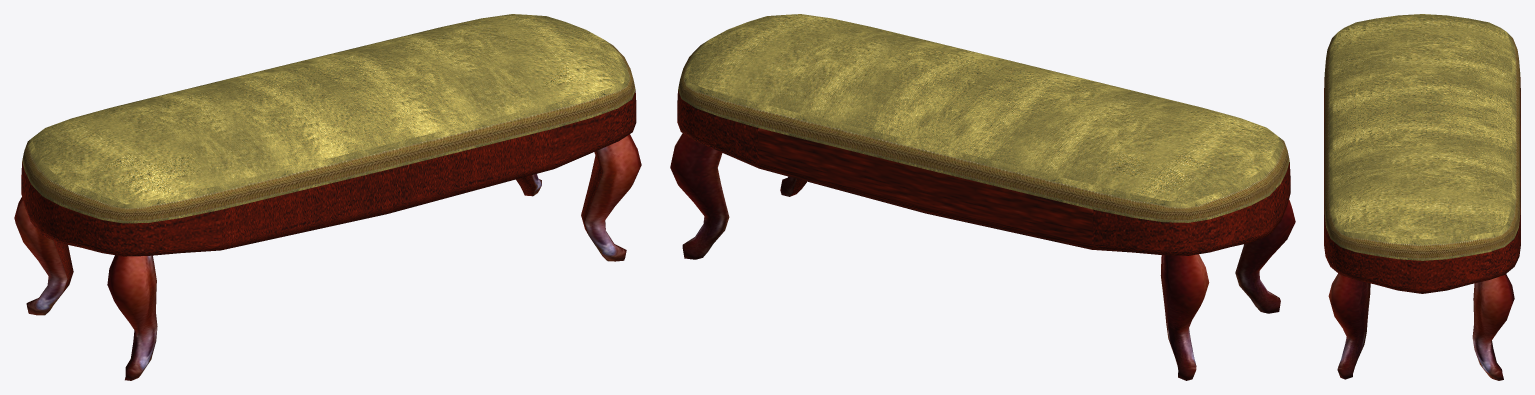
File: BenchforBed.fbx
3 views of the same model, side by side, from view 1: azimuth 30°, elevation 25°; view 2: azimuth 150°, elevation 25°; view 3: azimuth 270°, elevation 25° (orthographic). The views are drawn at different scales.
Visible parts, largest first — view 1: Bench_footofBed; view 2: Bench_footofBed; view 3: Bench_footofBed.
Boxes of the visible parts, box(x1,y1,x2,y2) form: Bench_footofBed: box(14, 14, 641, 380); Bench_footofBed: box(670, 14, 1295, 380); Bench_footofBed: box(1324, 14, 1520, 380).
Size of the model in its own units: 152 by 51.23 by 53.84.
